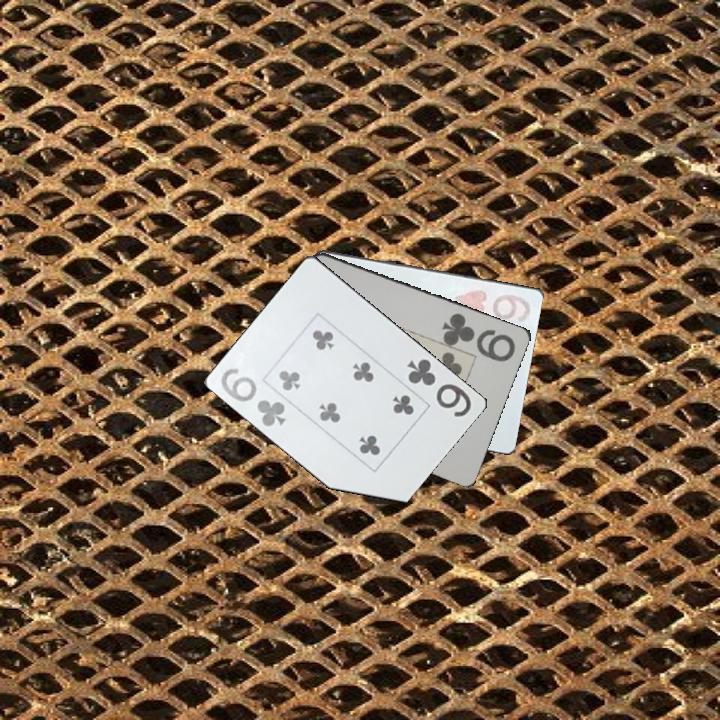6c: (217, 364, 289, 430), (404, 355, 475, 420)
6h: (451, 284, 534, 326)
9c: (439, 309, 519, 365)
